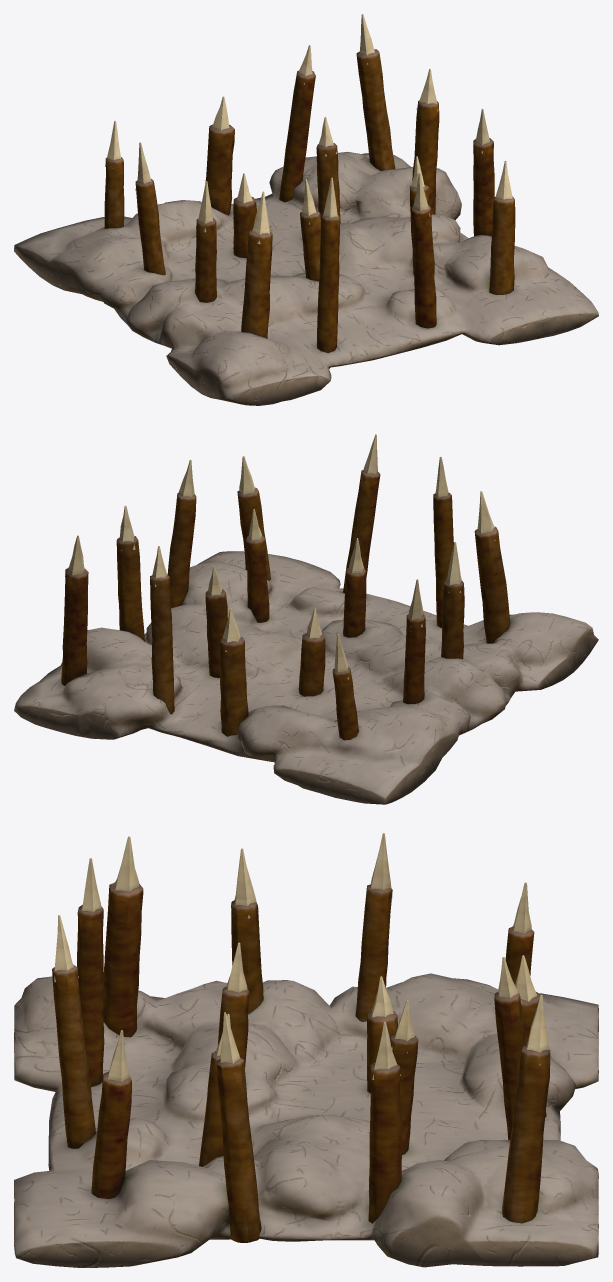
The model's file is trap_spikes.glb.
3 renders of one model, top to bottom at view 1: azimuth 30°, elevation 25°; view 2: azimuth 150°, elevation 25°; view 3: azimuth 270°, elevation 25°, orthographic. The views are drawn at different scales.
Parts seen in each view (by area): view 1: rock, stake, tip; view 2: rock, stake, tip; view 3: rock, stake, tip.
Boxes of the visible parts, bbox=[...] form: rock: bbox=[14, 151, 598, 405]; stake: bbox=[104, 49, 515, 352]; tip: bbox=[105, 14, 512, 244]; rock: bbox=[14, 551, 598, 804]; stake: bbox=[61, 470, 510, 740]; tip: bbox=[65, 434, 495, 679]; rock: bbox=[14, 973, 598, 1267]; stake: bbox=[52, 882, 550, 1242]; tip: bbox=[54, 833, 548, 1082].
Bounding box in the file's own units: 1.96 × 0.9494 × 1.96.
3 materials, 3 textured.
